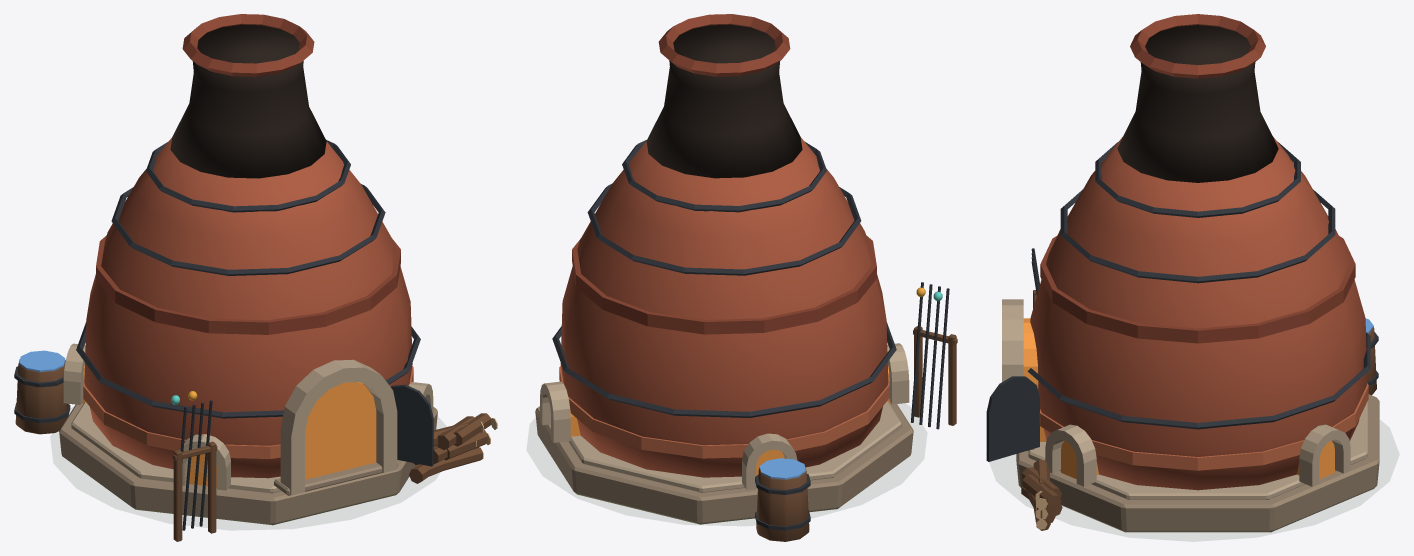
The model's file is kiln.glb.
3 renders of one model, left to right at view 1: azimuth 30°, elevation 25°; view 2: azimuth 150°, elevation 25°; view 3: azimuth 270°, elevation 25°, orthographic. The views are drawn at different scales.
Parts seen in each view (by area): view 1: kiln; view 2: kiln; view 3: kiln.
Part boxes in pixels (x1,y1,x2,y2): kiln: (14, 14, 497, 541); kiln: (535, 14, 957, 541); kiln: (986, 14, 1379, 532).
Bounding box in the file's own units: 4.1 × 4.57 × 4.1.
